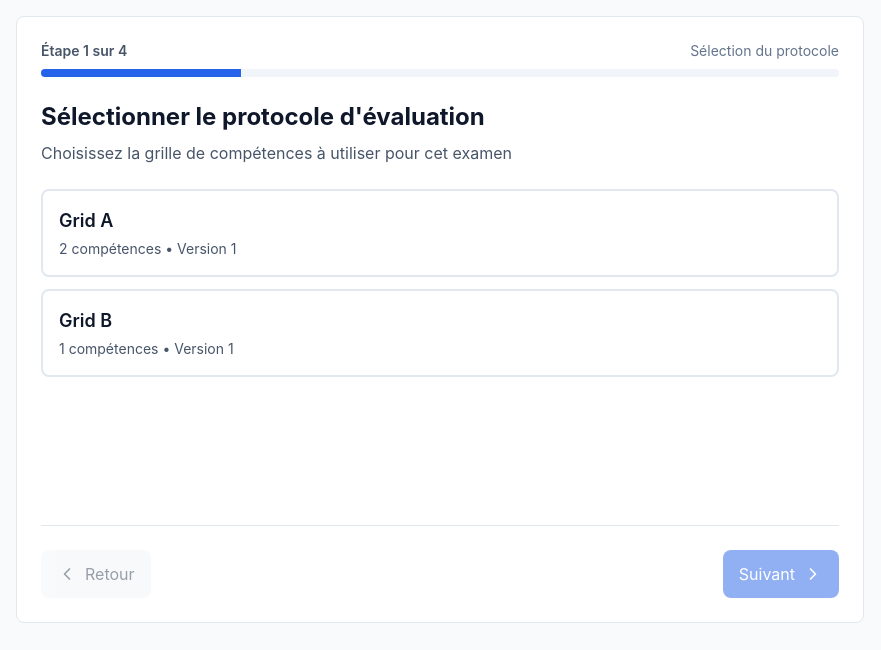
Test: ExamWizard › Step 3: Select Students › renders student selection list
Step 1. Click the text "Grid A" → (440, 233), box [41, 189, 839, 277]
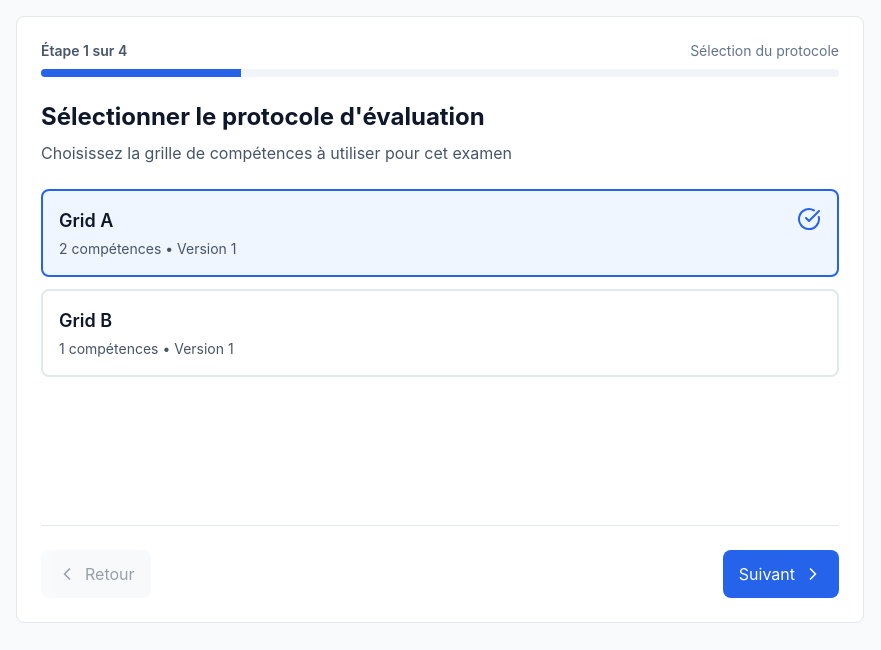
Step 2. Click the button "Suivant" → (781, 574), box [723, 550, 839, 598]
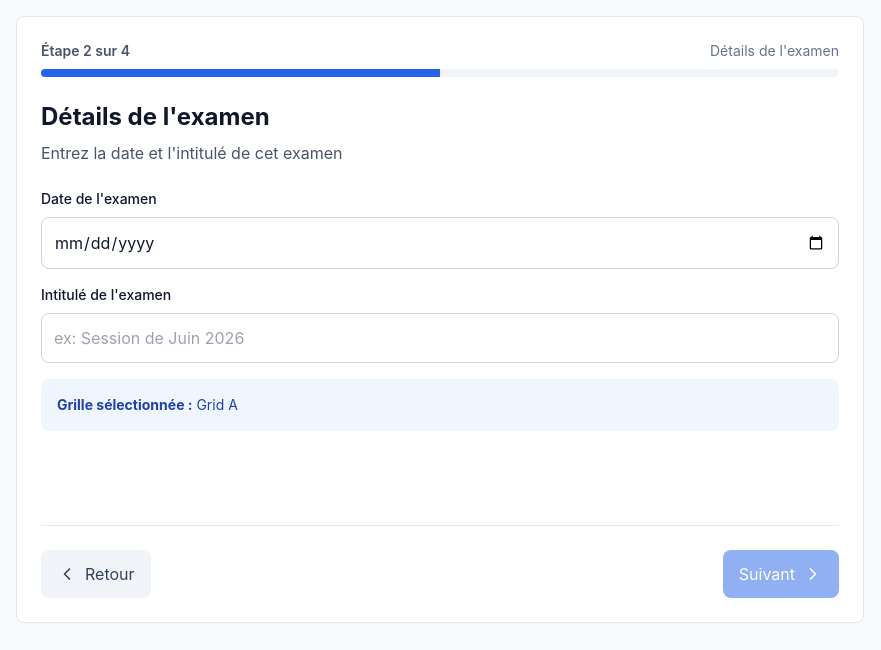
Check: the date field labelled "Date de l'examen" is shown
Step 3. Type "2024-06-15" into the date field labelled "Date de l'examen" → (440, 243), box [41, 217, 839, 269]
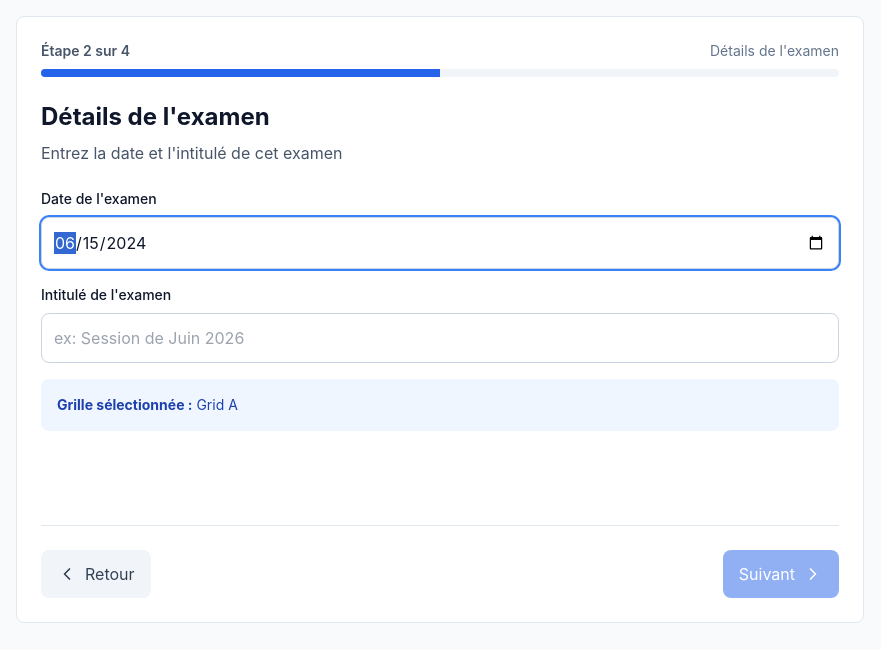
Step 4. Type "Examen de mi-parcours" into the field with placeholder "ex: Session de Juin 2026" → (440, 338), box [41, 313, 839, 363]
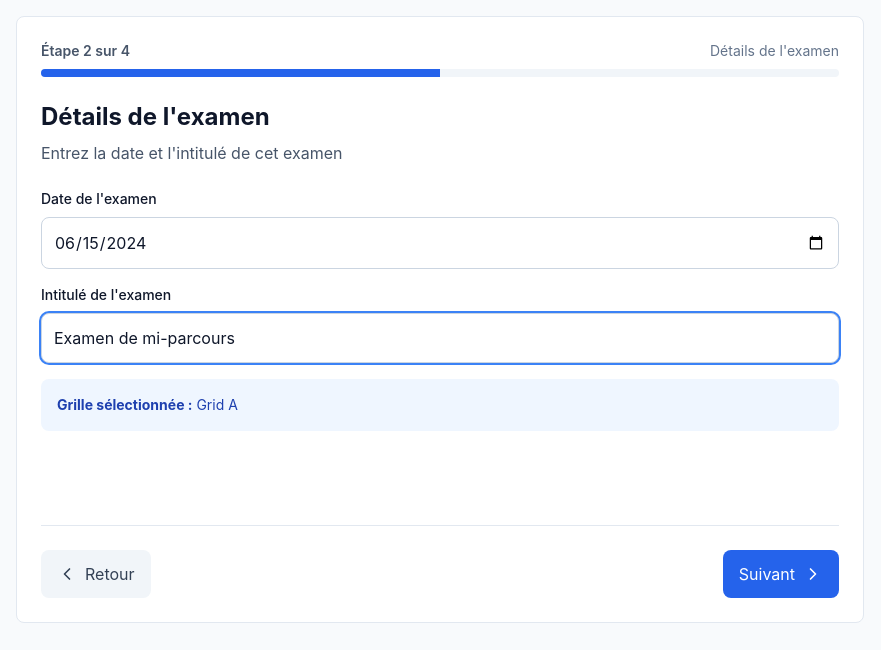
Step 5. Click the button "Suivant" → (781, 574), box [723, 550, 839, 598]
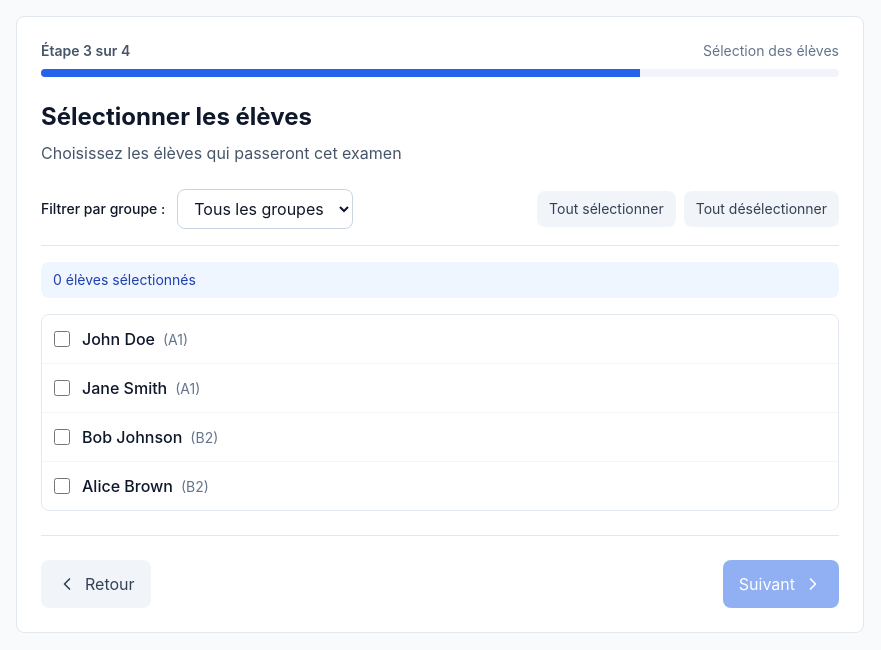
Check: the heading "Sélectionner les élèves" is shown, box [41, 102, 312, 131]
Check: the text "John Doe" is shown, box [82, 329, 155, 349]
Check: the text "Jane Smith" is shown, box [82, 378, 167, 398]
